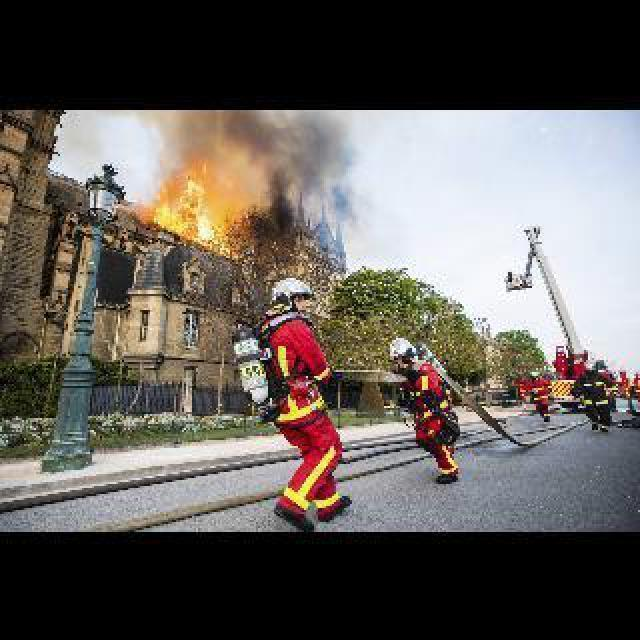fire: (144, 158, 232, 246)
smoke: (224, 112, 374, 228)
